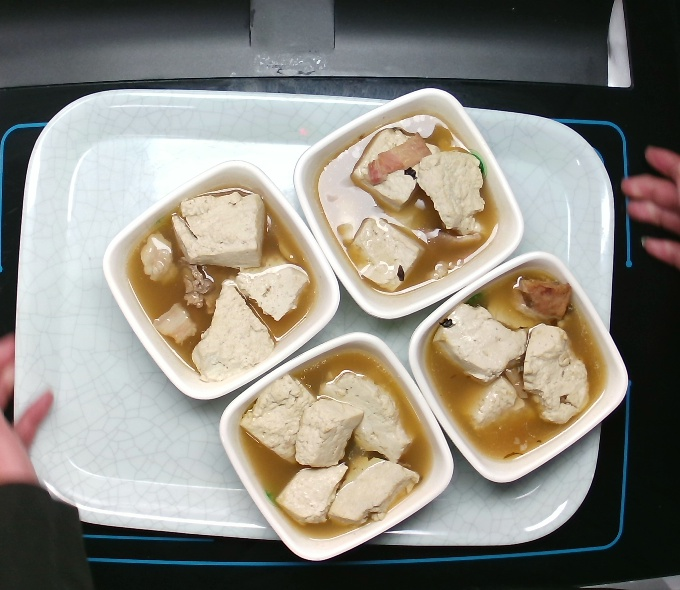wcq-DouFuRouTang: (228, 346, 441, 536), (130, 179, 324, 379), (310, 113, 504, 313), (419, 267, 613, 467)
